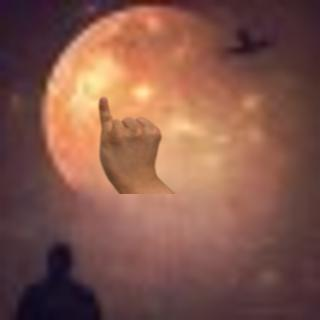FINE: (92, 95, 166, 186)
